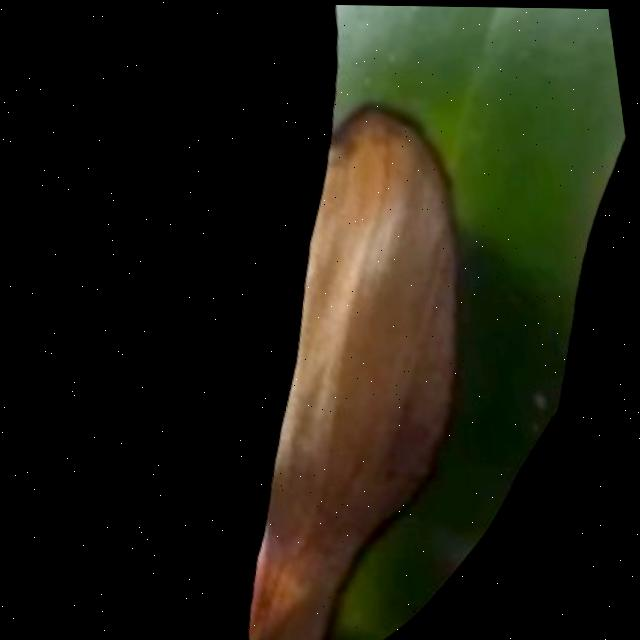mite: (265, 232, 588, 640), (297, 496, 477, 640), (313, 537, 405, 640), (515, 378, 563, 432), (524, 388, 552, 414), (355, 72, 379, 94), (381, 45, 403, 68)
sunburn: (173, 91, 516, 640)
